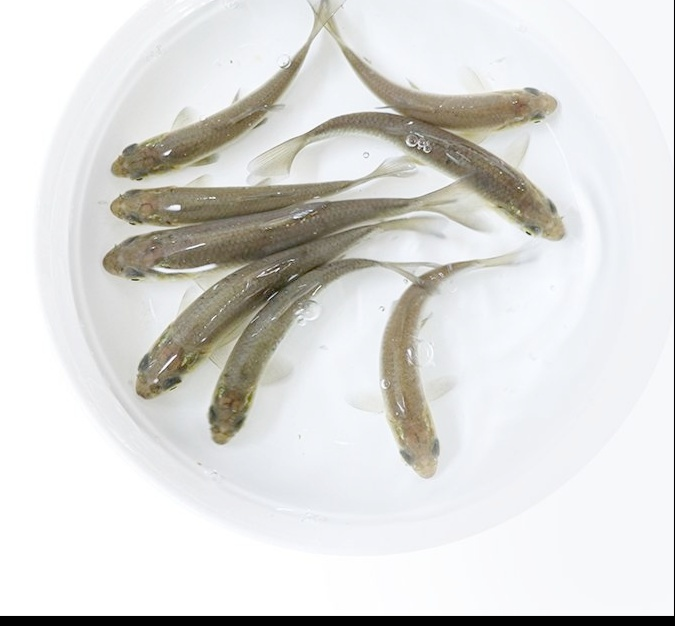fry: (358, 109, 591, 251), (361, 255, 493, 491), (81, 60, 260, 183), (351, 34, 564, 137), (184, 299, 291, 458), (117, 274, 225, 402), (99, 174, 329, 225), (93, 211, 251, 284)
